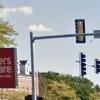Traffic light: (73, 48, 100, 75)
